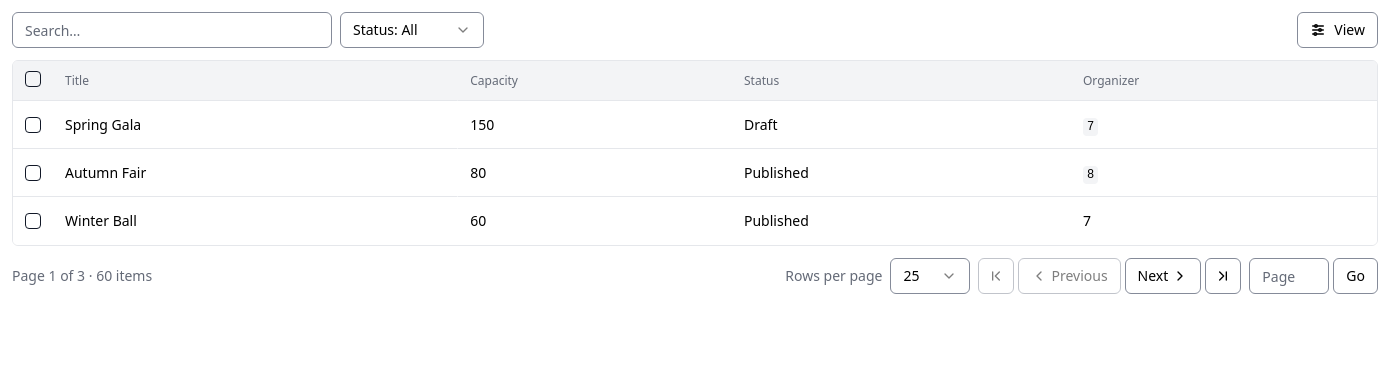
Test: bulk actions › a promise that resolves deselects everything and says it is done
Click the checkbox named "Select Spring Gala".
click(33, 124)  # box [25,116,41,132]
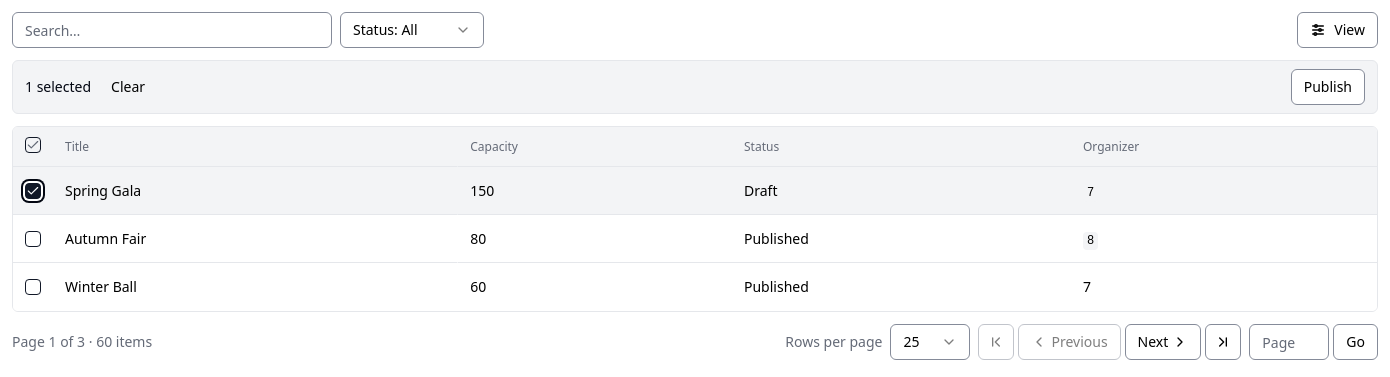
Click the button "Publish".
click(1328, 87)  # box [1291,69,1365,105]
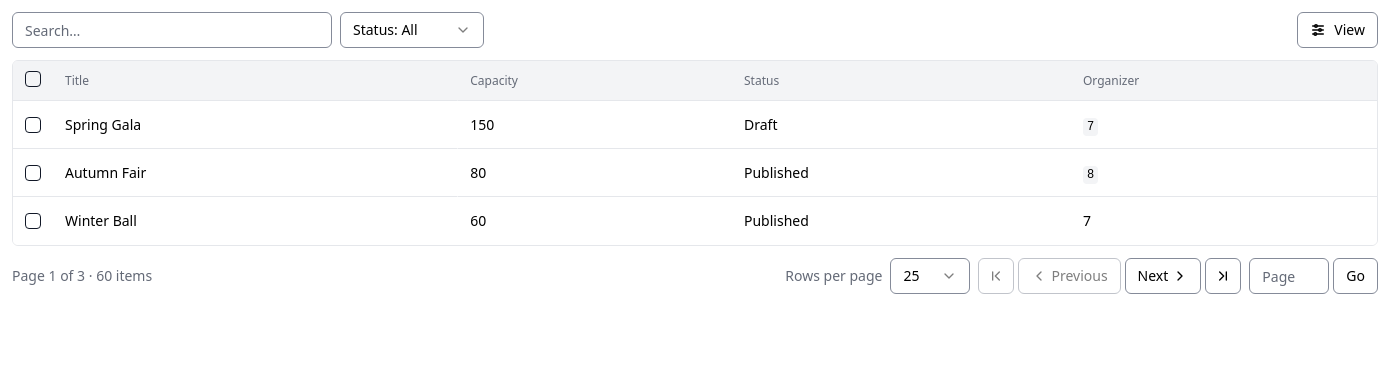
Result: the text "1 selected" is gone
